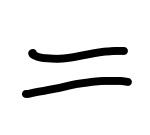eqv: (20, 46, 133, 100)
